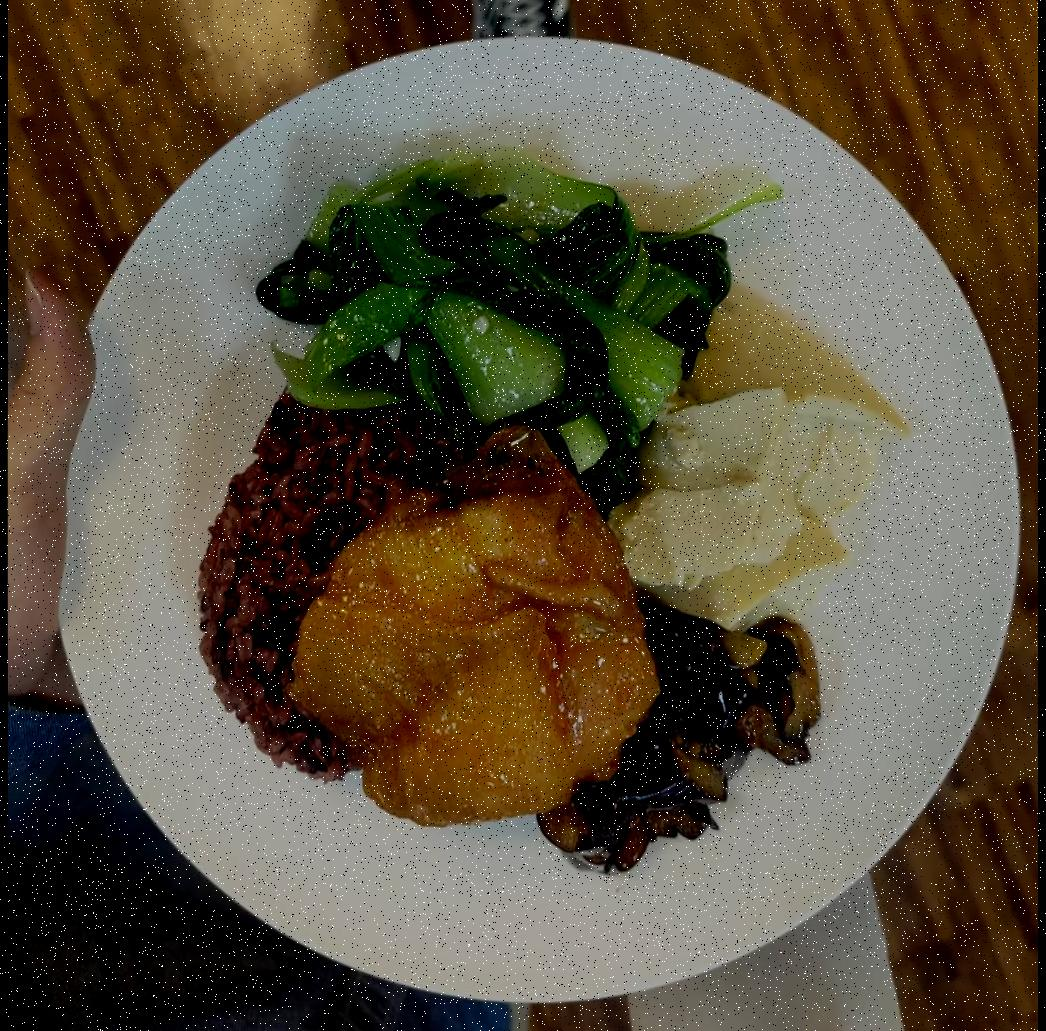grilled chicken leg steak: (284, 437, 680, 828)
plate: (45, 18, 1023, 1019)
purple rice: (201, 363, 483, 785)
side dish: (255, 148, 738, 461), (539, 613, 836, 873), (611, 380, 918, 626)
